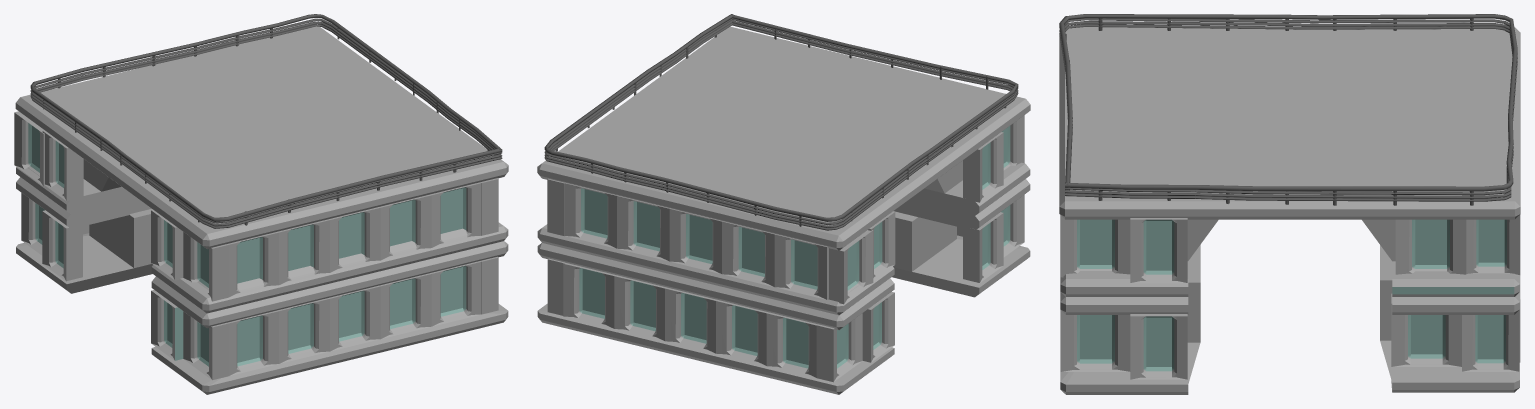
File: House hole.fbx
3 views of the same model, side by side, from view 1: azimuth 30°, elevation 25°; view 2: azimuth 150°, elevation 25°; view 3: azimuth 270°, elevation 25° (orthographic). The views are drawn at different scales.
Visible parts, largest first — view 1: polySurface4485; view 2: polySurface4485; view 3: polySurface4485.
Part boxes in pixels (x1,y1,x2,y2): polySurface4485: [14, 14, 508, 394]; polySurface4485: [537, 14, 1030, 394]; polySurface4485: [1059, 14, 1520, 394].
Bounding box in the file's own units: 300 × 162 × 323.
